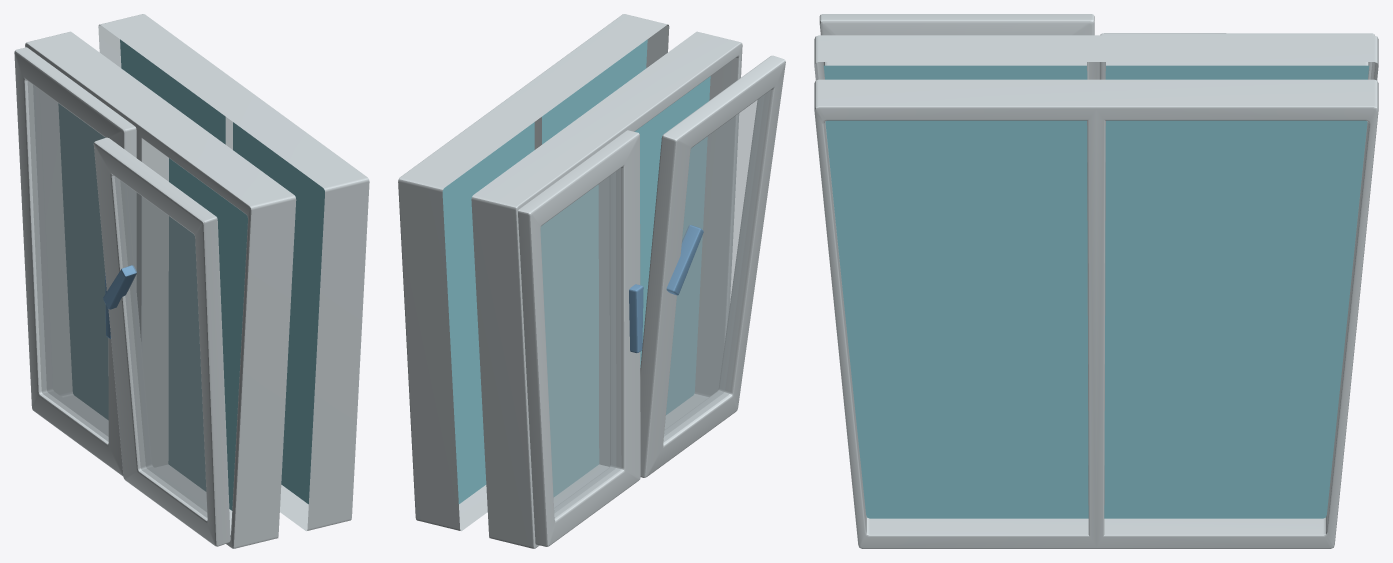
The model's file is RaamEnkelGlasKunstof_Variatie_2.fbx.
The picture shows the model from 3 angles, left to right: view 1: azimuth 30°, elevation 25°; view 2: azimuth 150°, elevation 25°; view 3: azimuth 270°, elevation 25°; orthographic projection. The views are drawn at different scales.
Parts seen in each view (by area): view 1: RaamEnkelGlasKunstof_Variatie_2; view 2: RaamEnkelGlasKunstof_Variatie_2; view 3: RaamEnkelGlasKunstof_Variatie_2.
Part boxes in pixels (<box>): RaamEnkelGlasKunstof_Variatie_2: <box>14,14,369,548</box>; RaamEnkelGlasKunstof_Variatie_2: <box>398,14,785,548</box>; RaamEnkelGlasKunstof_Variatie_2: <box>814,14,1378,548</box>.
Size of the model in its own units: 1.5 by 3.1 by 3.58.
